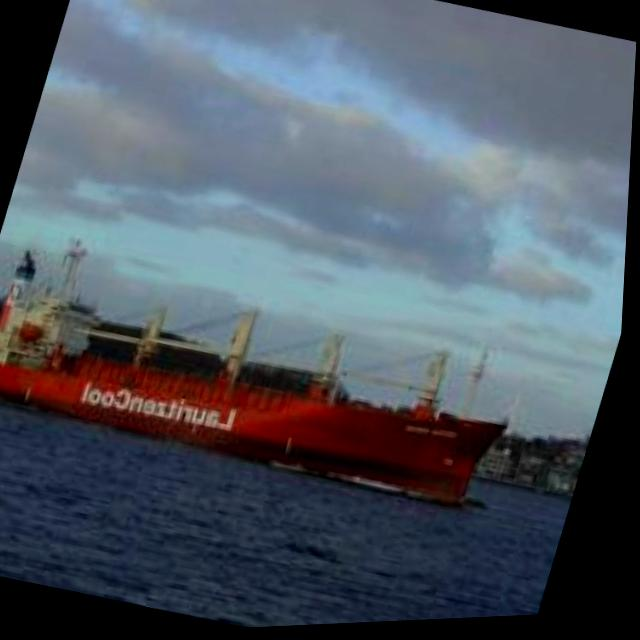ship2: (0, 259, 508, 513)
